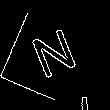N_S: (27, 24, 83, 86)
